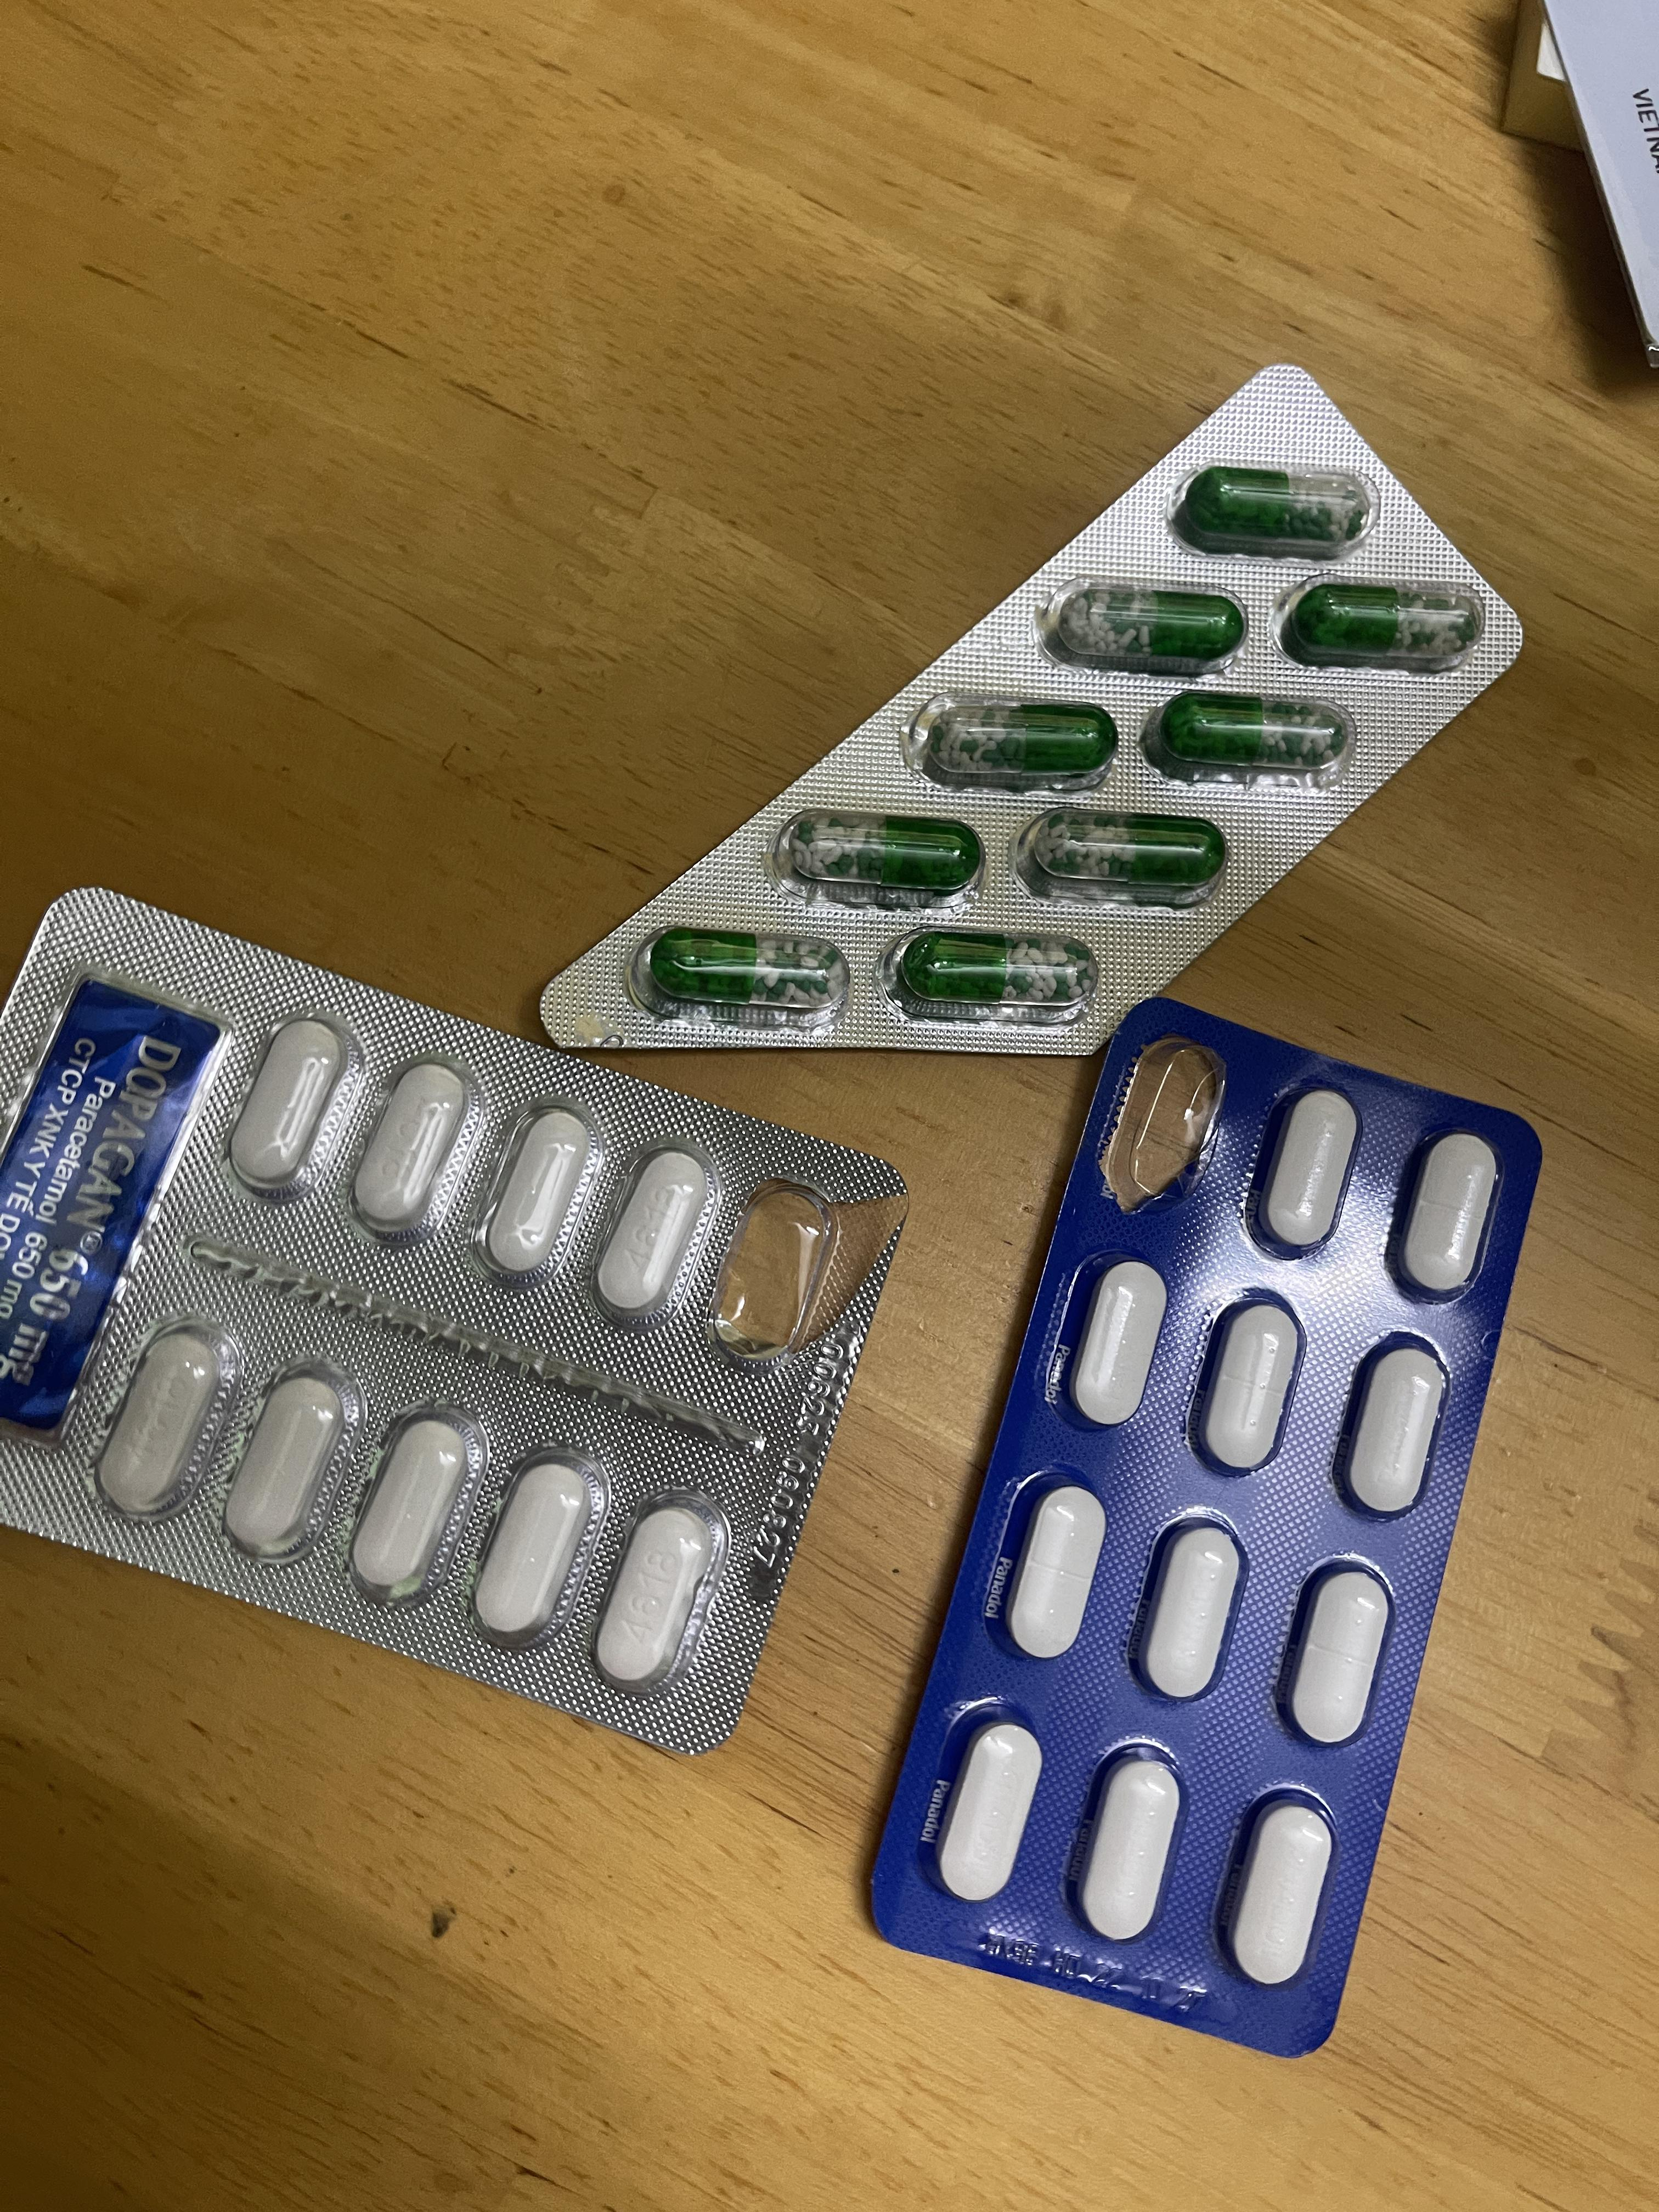Paracetamol_350mg: (1223, 1797, 1337, 1991), (1338, 1338, 1453, 1522), (1075, 1750, 1182, 1944), (934, 1719, 1042, 1909), (1284, 1566, 1394, 1749), (1391, 1129, 1506, 1301), (1249, 1087, 1364, 1256), (1136, 1522, 1243, 1703), (1201, 1303, 1302, 1475), (1007, 1484, 1105, 1662), (1068, 1263, 1168, 1433)
Paracetamol_500mg: (216, 1360, 357, 1566), (589, 1493, 728, 1695), (343, 1407, 474, 1609), (347, 1054, 479, 1247), (471, 1453, 599, 1646), (584, 1144, 720, 1327), (225, 1015, 352, 1202), (472, 1099, 603, 1280), (101, 1325, 227, 1512)
Paracetamol_650mg: (650, 930, 843, 1010), (897, 935, 1091, 1012), (1033, 815, 1222, 892), (1183, 469, 1366, 545), (1291, 587, 1476, 662), (1159, 697, 1344, 772), (789, 819, 978, 890), (929, 707, 1112, 775), (1056, 592, 1239, 660)
